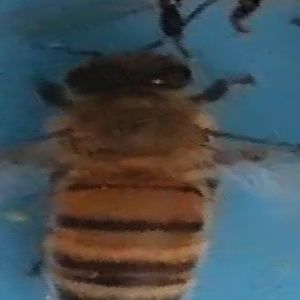bee: (2, 45, 255, 300)
